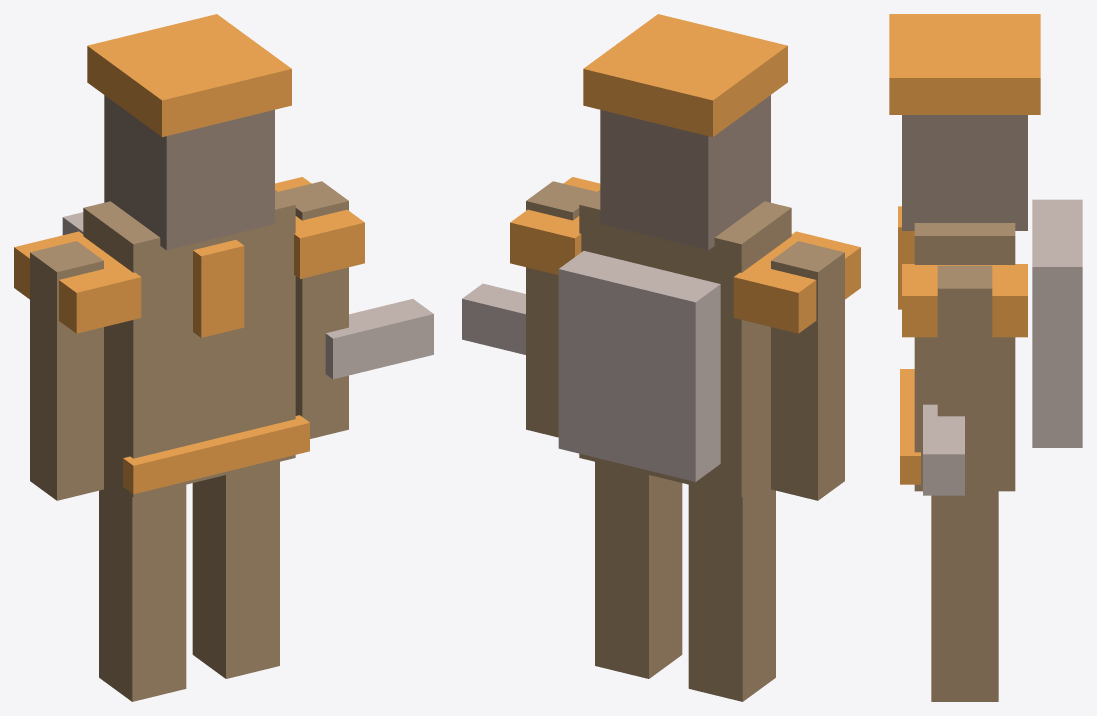
Rendered from 16_quill_gravesong_broker_under_ember.glb.
3 views of the same model, side by side, from view 1: azimuth 30°, elevation 25°; view 2: azimuth 150°, elevation 25°; view 3: azimuth 270°, elevation 25° (orthographic).
Visible parts, largest first — view 1: Quill Gravesong, Broker under Ember; view 2: Quill Gravesong, Broker under Ember; view 3: Quill Gravesong, Broker under Ember.
Part boxes in pixels (<box>): Quill Gravesong, Broker under Ember: <box>14,14,433,701</box>; Quill Gravesong, Broker under Ember: <box>462,14,860,701</box>; Quill Gravesong, Broker under Ember: <box>889,14,1082,701</box>.
Bounding box in the file's own units: 1.06 × 1.69 × 0.4765.
